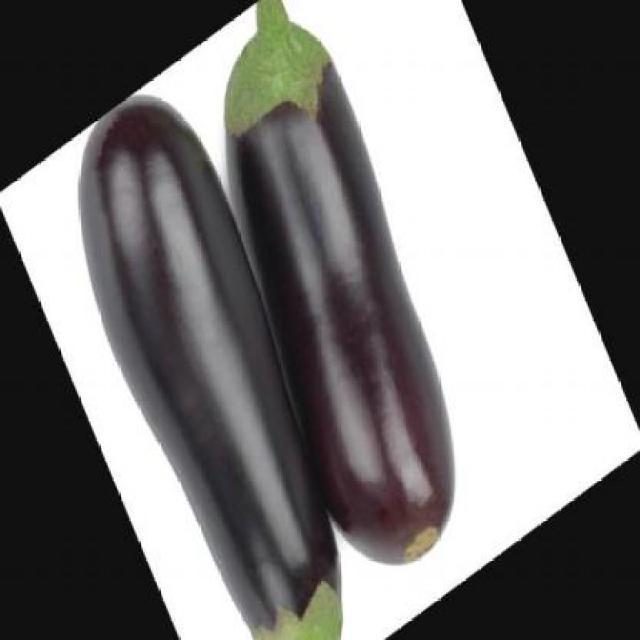eggplant: (74, 91, 344, 640), (215, 0, 459, 601)
